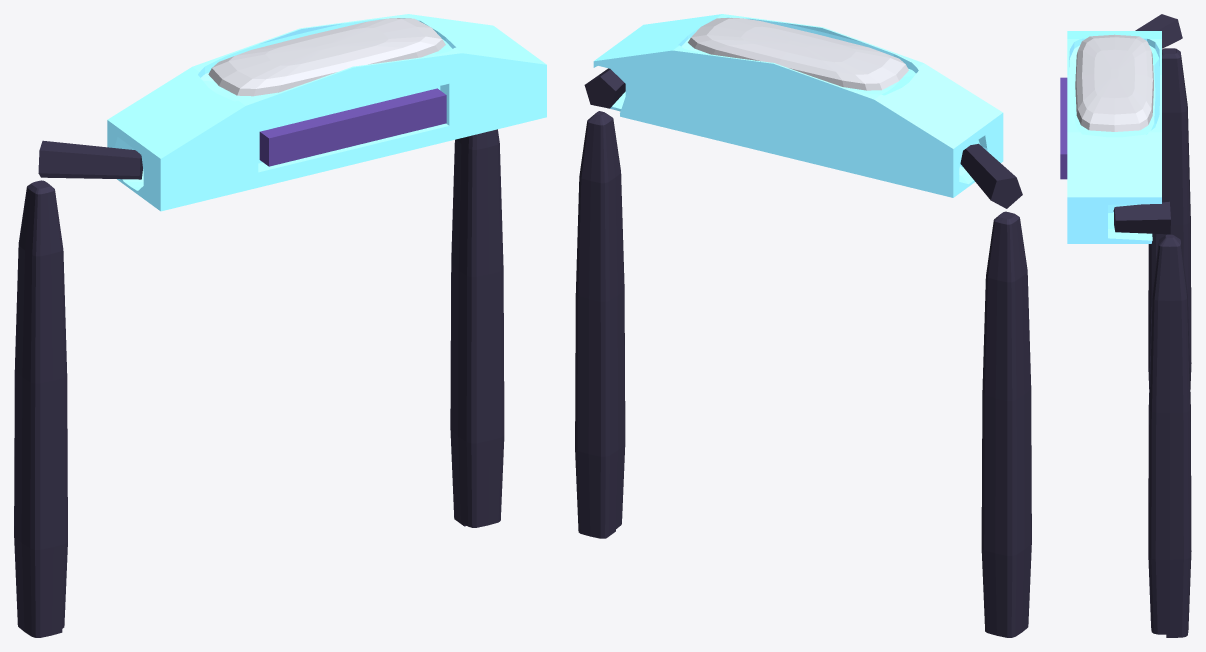
File: h02_lintel_left.fbx
3 views of the same model, side by side, from view 1: azimuth 30°, elevation 25°; view 2: azimuth 150°, elevation 25°; view 3: azimuth 270°, elevation 25° (orthographic). The views are drawn at different scales.
Visible parts, largest first — view 1: h02_lintel_left__Basalt, h02_lintel_left__Ice, h02_lintel_left__Snow, h02_lintel_left__Canvas; view 2: h02_lintel_left__Basalt, h02_lintel_left__Ice, h02_lintel_left__Snow; view 3: h02_lintel_left__Basalt, h02_lintel_left__Ice, h02_lintel_left__Snow, h02_lintel_left__Canvas.
Boxes of the visible parts, x1,y1,x2,y2 form: h02_lintel_left__Basalt: (14, 129, 504, 637); h02_lintel_left__Ice: (107, 14, 546, 211); h02_lintel_left__Snow: (208, 18, 445, 96); h02_lintel_left__Canvas: (259, 88, 446, 166); h02_lintel_left__Basalt: (575, 68, 1031, 637); h02_lintel_left__Ice: (593, 14, 1003, 197); h02_lintel_left__Snow: (688, 18, 908, 90); h02_lintel_left__Basalt: (1113, 14, 1191, 637); h02_lintel_left__Ice: (1067, 31, 1161, 243); h02_lintel_left__Snow: (1075, 34, 1153, 131); h02_lintel_left__Canvas: (1060, 77, 1067, 179).
Size of the model in its own units: 6.15 by 6.71 by 1.66.
